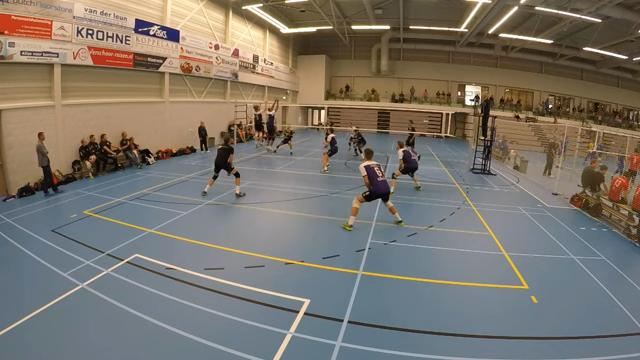muro: (261, 95, 283, 154), (246, 93, 265, 147)
